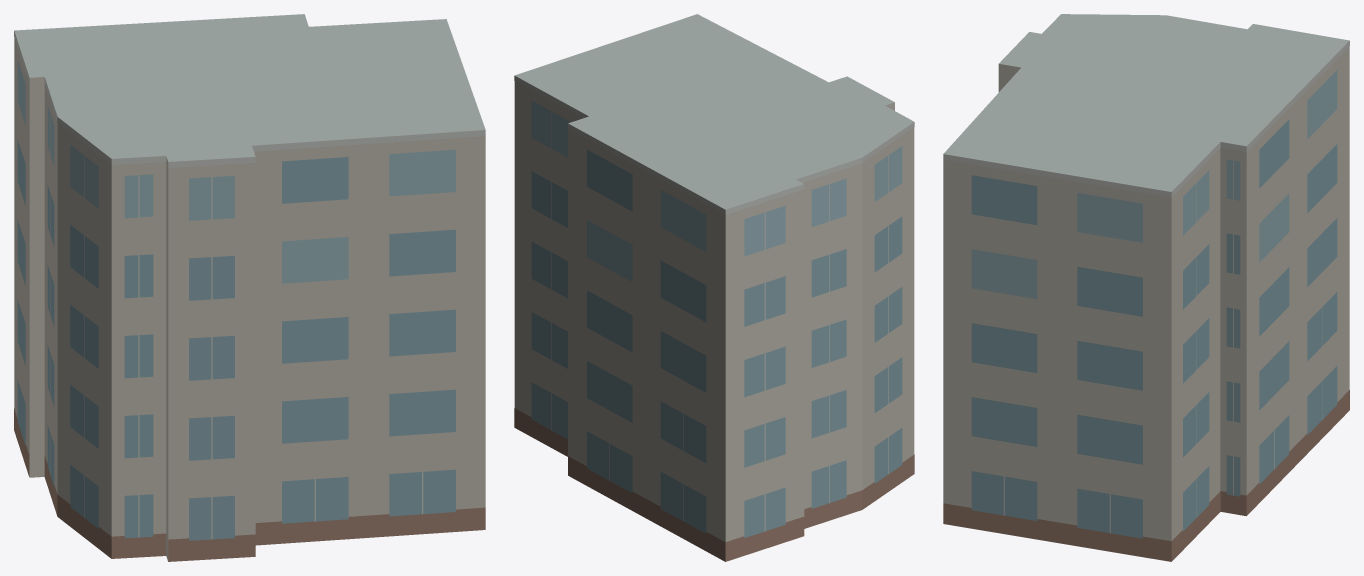
File: survey-upis-32986833.glb
3 views of the same model, side by side, from view 1: azimuth 30°, elevation 25°; view 2: azimuth 150°, elevation 25°; view 3: azimuth 270°, elevation 25° (orthographic). The views are drawn at different scales.
Parts seen in each view (by area): view 1: survey-upis-32986833.tmp; view 2: survey-upis-32986833.tmp; view 3: survey-upis-32986833.tmp.
Part boxes in pixels (x1,y1,x2,y2): survey-upis-32986833.tmp: [14, 14, 485, 561]; survey-upis-32986833.tmp: [514, 14, 914, 561]; survey-upis-32986833.tmp: [943, 14, 1349, 561].
Size of the model in its own units: 16.58 by 16.05 by 16.
